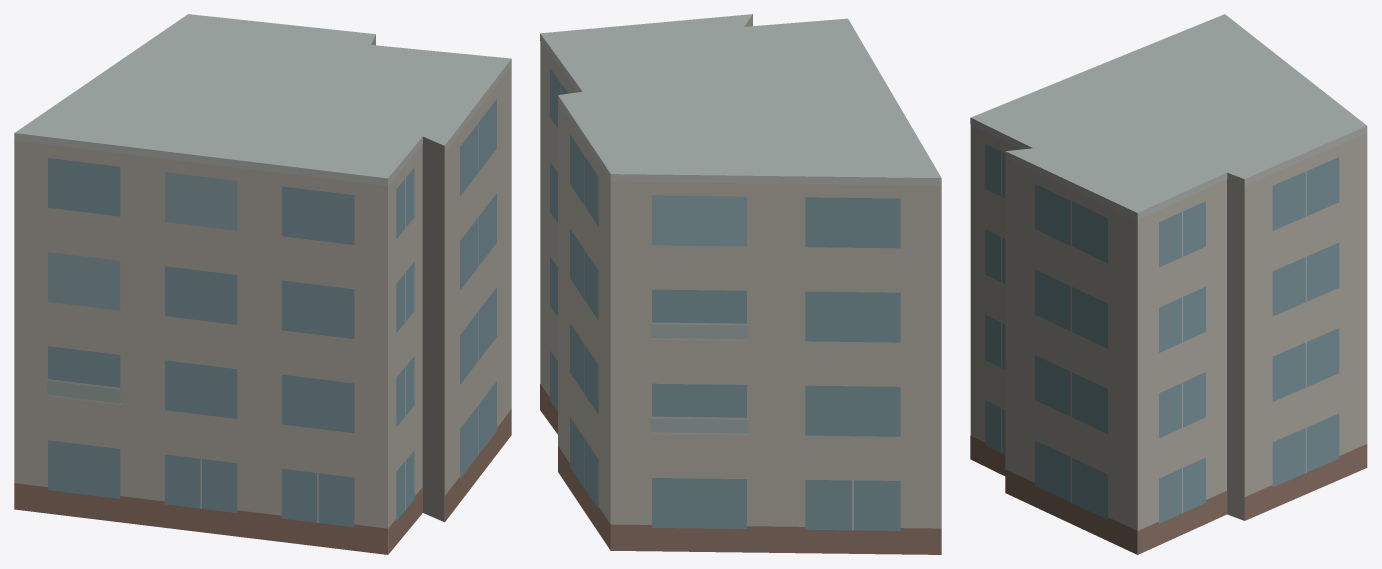
The model's file is survey-upis-32811446.glb.
3 views of the same model, side by side, from view 1: azimuth 30°, elevation 25°; view 2: azimuth 150°, elevation 25°; view 3: azimuth 270°, elevation 25° (orthographic). The views are drawn at different scales.
Visible parts, largest first — view 1: survey-upis-32811446.tmp; view 2: survey-upis-32811446.tmp; view 3: survey-upis-32811446.tmp.
Boxes of the visible parts, x1=… form: survey-upis-32811446.tmp: x1=14, y1=14, x2=511, y2=554; survey-upis-32811446.tmp: x1=540, y1=14, x2=941, y2=554; survey-upis-32811446.tmp: x1=970, y1=14, x2=1367, y2=554.
Size of the model in its own units: 15.12 by 12.1 by 12.74.
